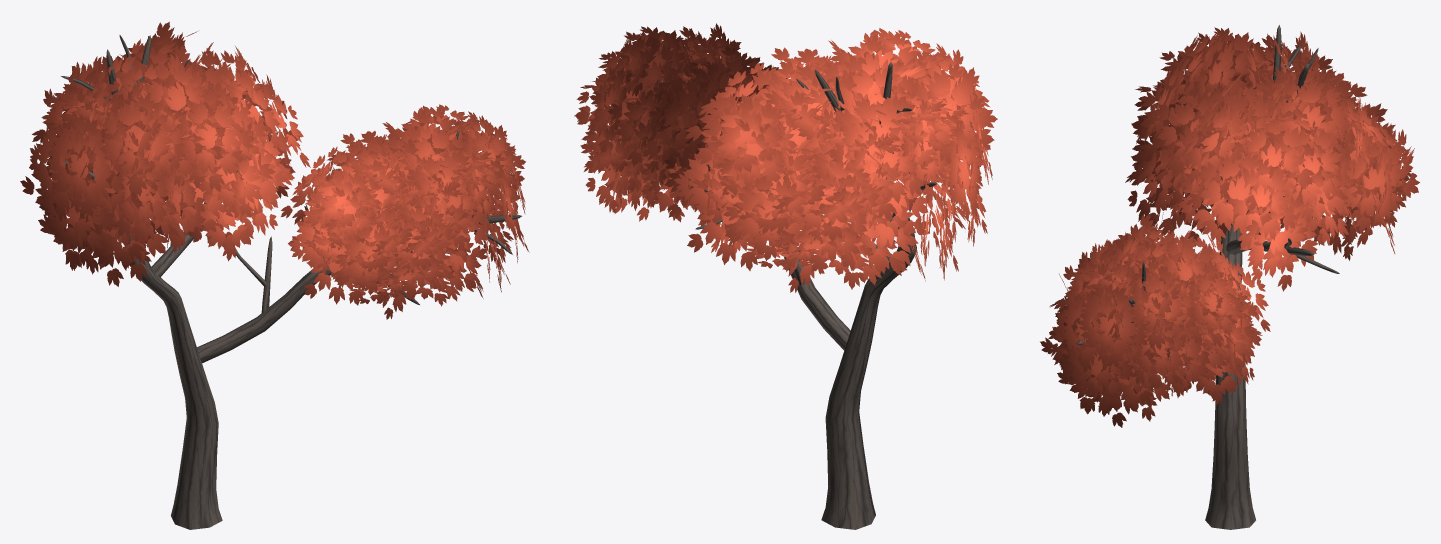
The model's file is MapleTree_1.glb.
3 views of the same model, side by side, from view 1: azimuth 30°, elevation 25°; view 2: azimuth 150°, elevation 25°; view 3: azimuth 270°, elevation 25° (orthographic). The views are drawn at different scales.
Parts seen in each view (by area): view 1: MapleTree_1; view 2: MapleTree_1; view 3: MapleTree_1.
Part boxes in pixels (x1,y1,x2,y2): MapleTree_1: [20, 21, 529, 529]; MapleTree_1: [574, 23, 997, 529]; MapleTree_1: [1040, 25, 1419, 529].
Size of the model in its own units: 6.23 by 6.64 by 4.9.
Materials: 2 (2 with a texture image).
